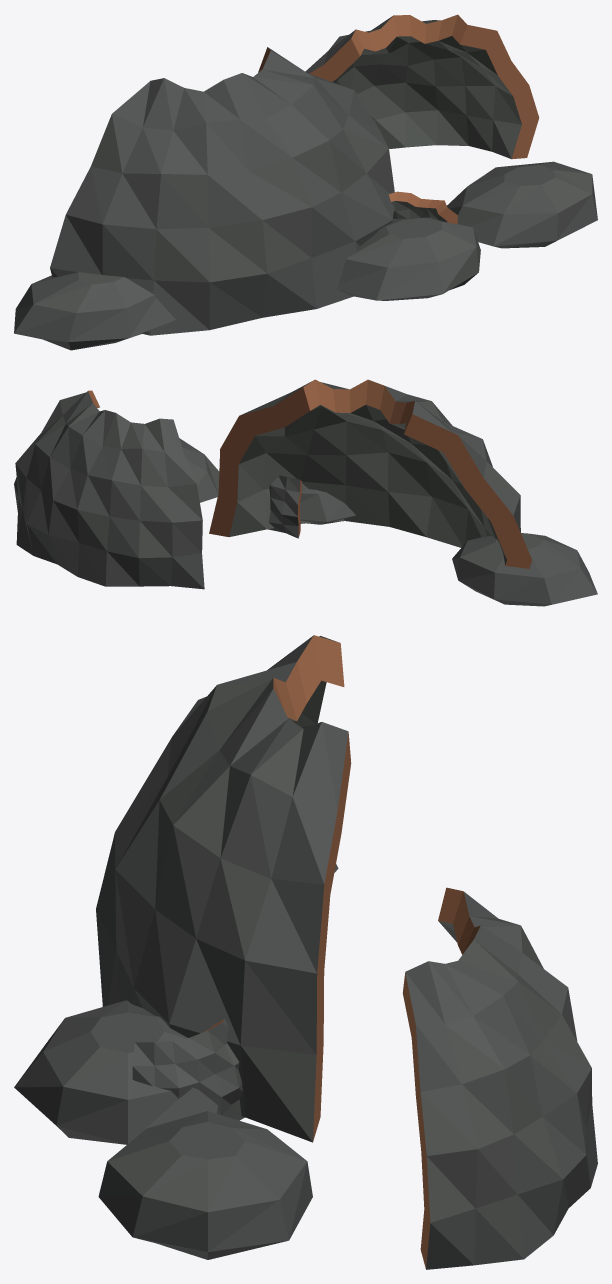
The model's file is Environment_Feature_Volcano_BrokenLavaShell_001.glb.
3 renders of one model, top to bottom at view 1: azimuth 30°, elevation 25°; view 2: azimuth 150°, elevation 25°; view 3: azimuth 270°, elevation 25°, orthographic. The views are drawn at different scales.
Parts seen in each view (by area): view 1: Environment_Feature_Volcano_BrokenLavaShell_001; view 2: Environment_Feature_Volcano_BrokenLavaShell_001; view 3: Environment_Feature_Volcano_BrokenLavaShell_001.
Boxes of the visible parts, x1,y1,x2,y2 form: Environment_Feature_Volcano_BrokenLavaShell_001: (14,14,597,350); Environment_Feature_Volcano_BrokenLavaShell_001: (14,379,597,606); Environment_Feature_Volcano_BrokenLavaShell_001: (14,635,597,1269).
Size of the model in its own units: 5.46 by 1.82 by 2.93.
